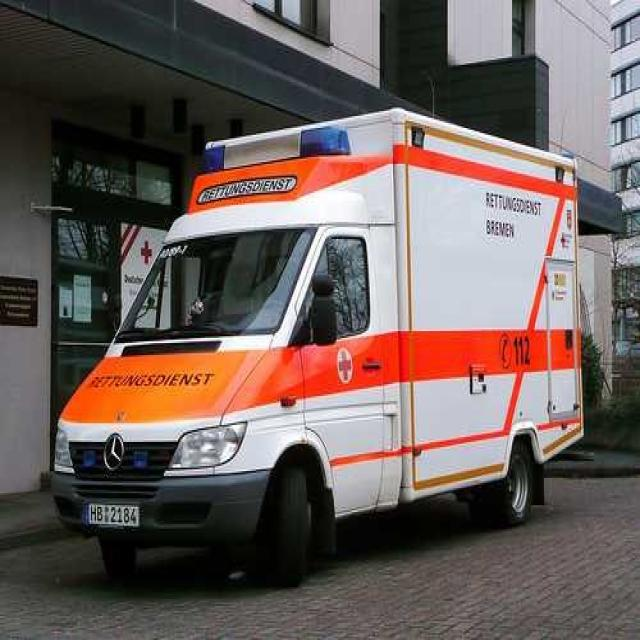ambulance: (57, 97, 590, 563)
